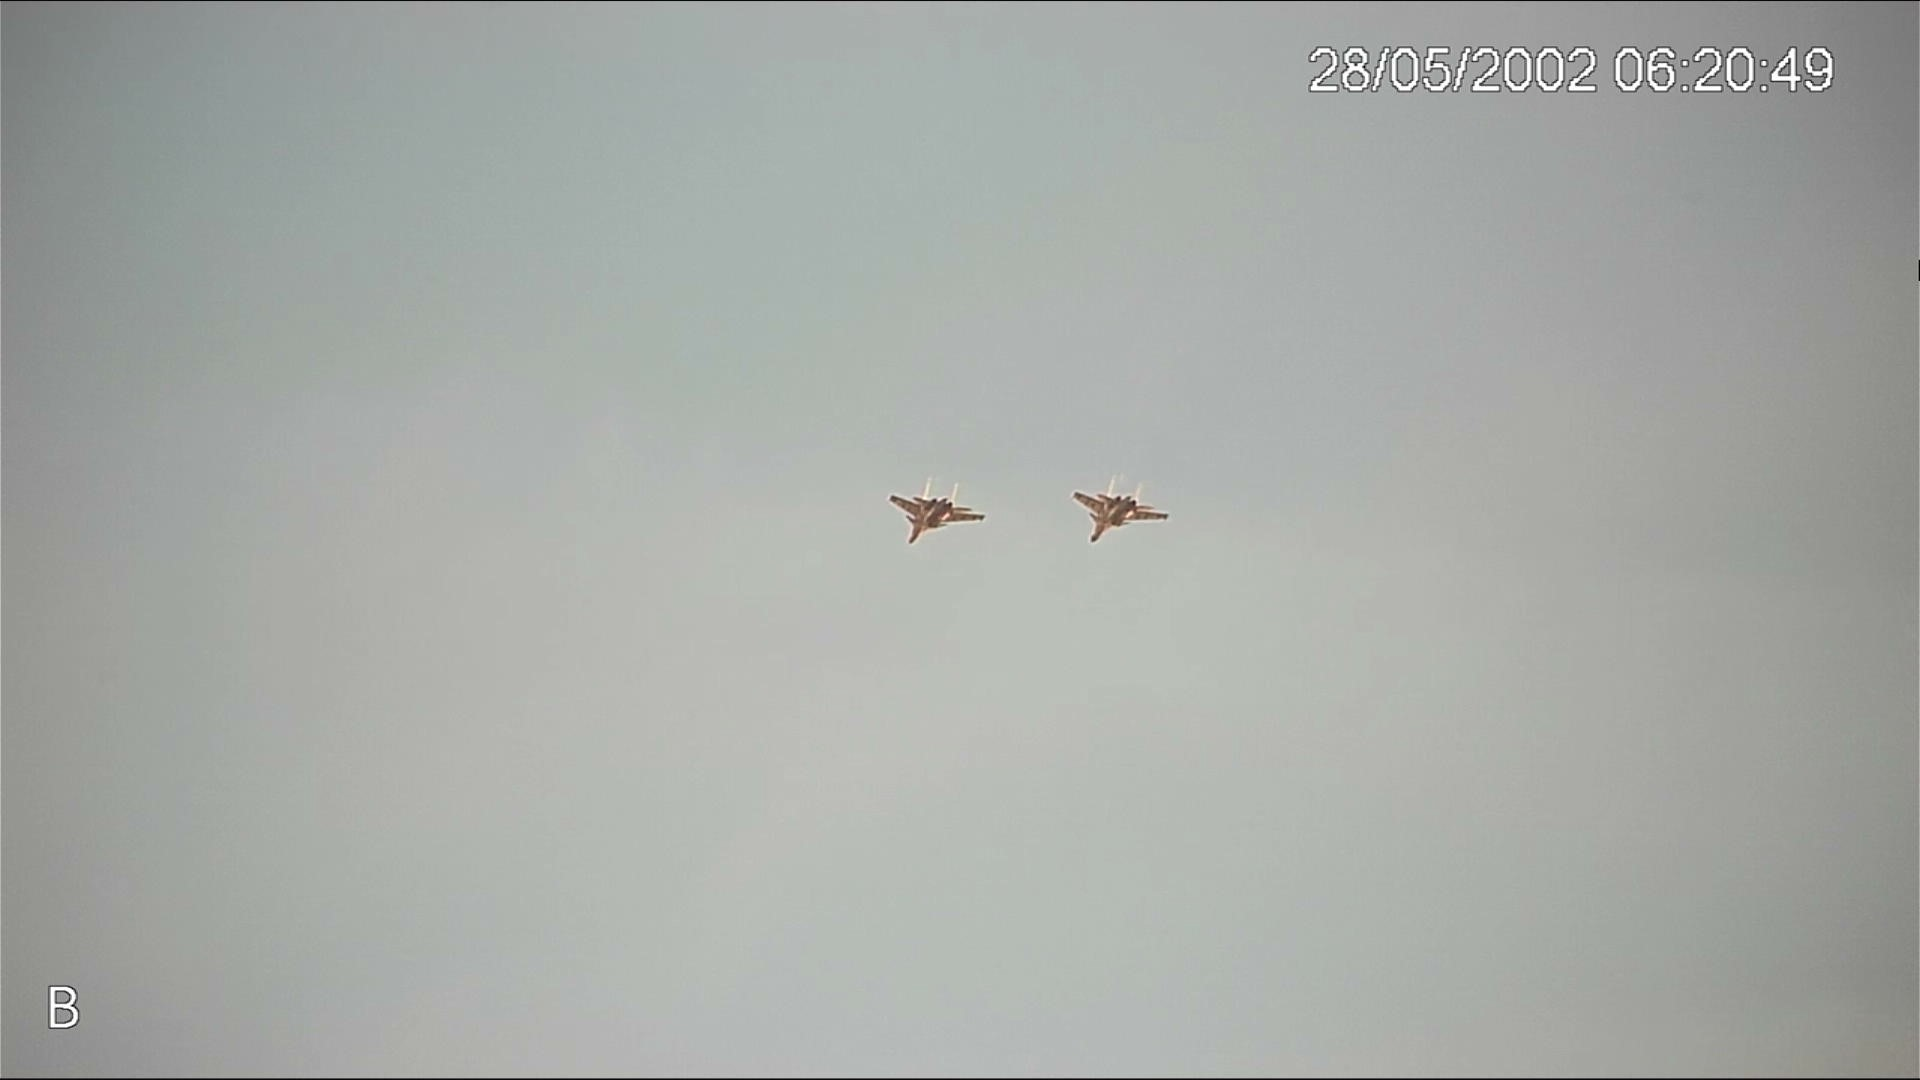SU_30: (884, 477, 986, 551), (1069, 481, 1166, 543)
